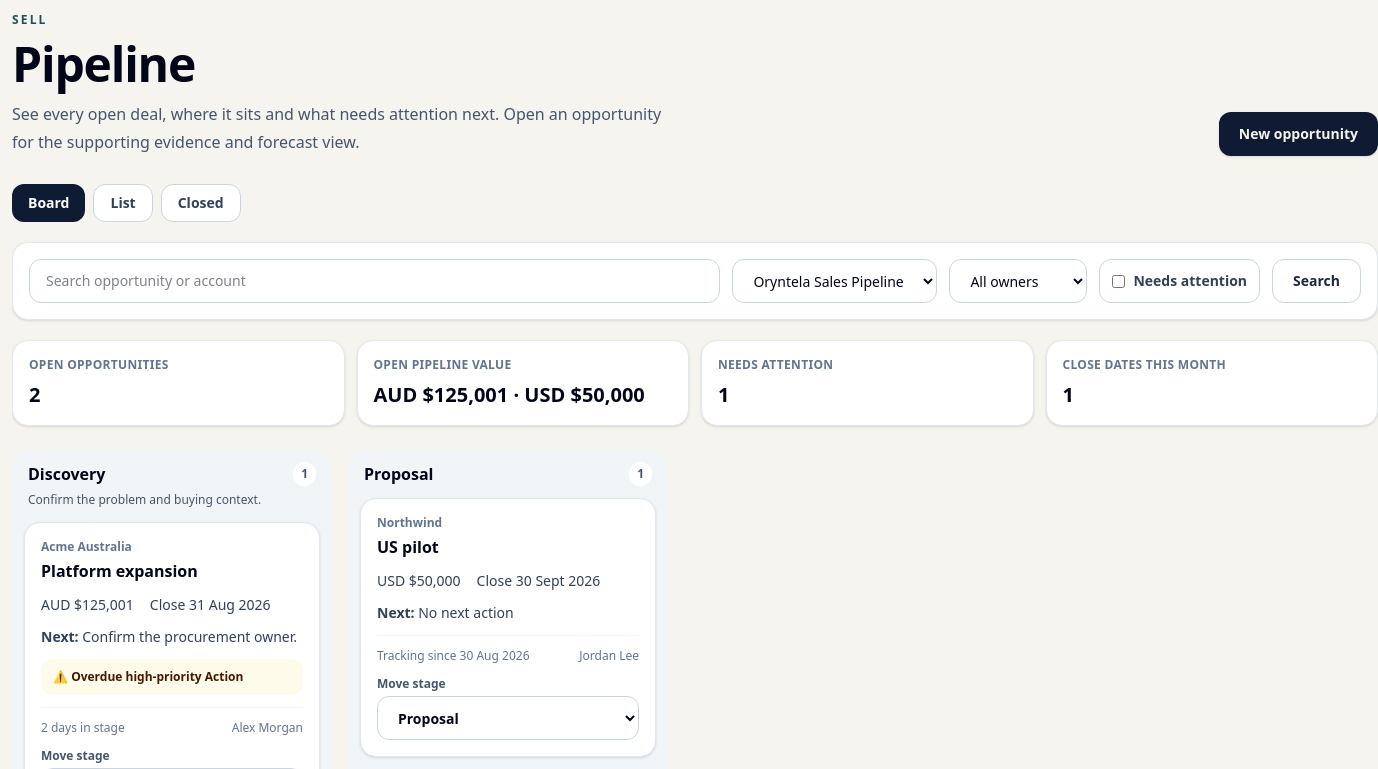
OpportunityList › renders the board, deterministic attention and currency-safe summaries
The width and height of the screenshot is (1378, 769).
Click the button "List": (123, 203) x1=94 y1=184 x2=153 y2=222
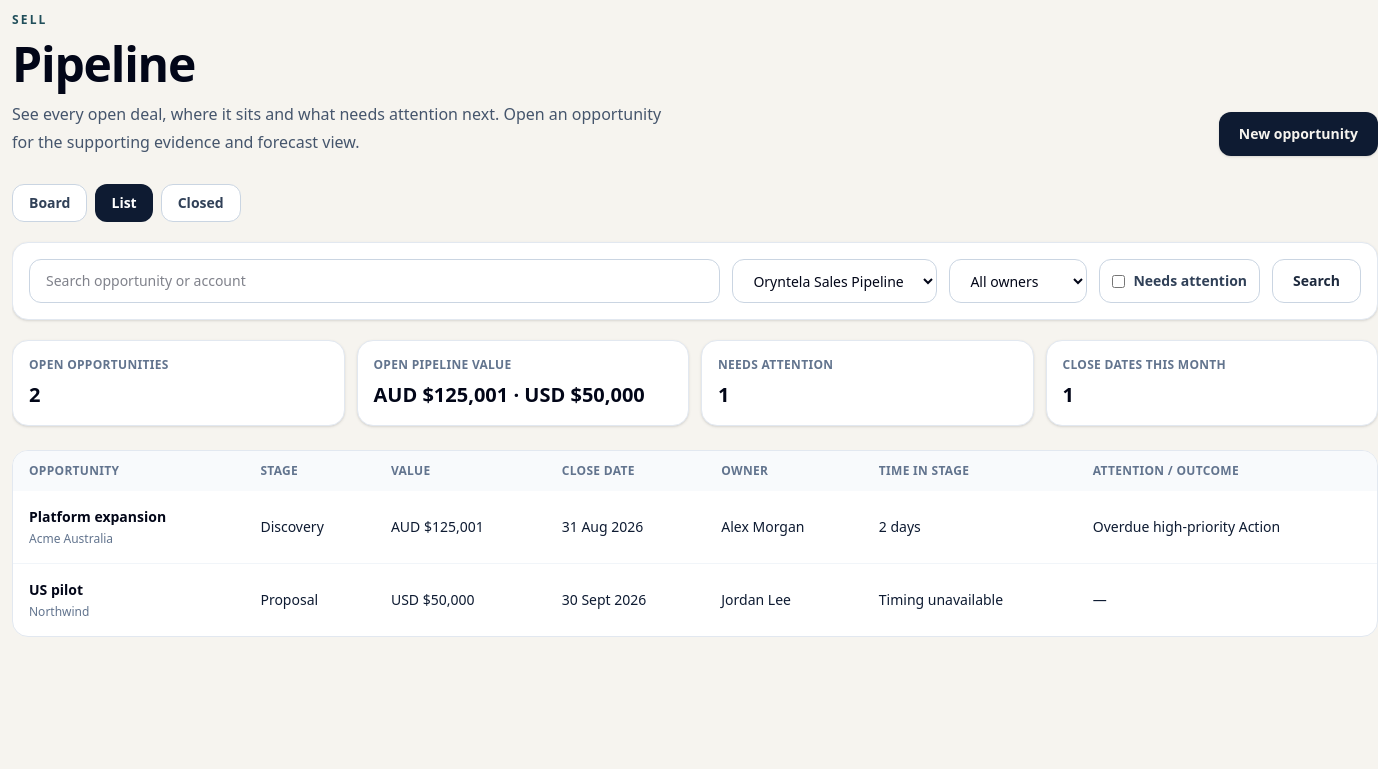
Result: the column heading "Time in stage" is shown at x1=863 y1=451 x2=1077 y2=491
